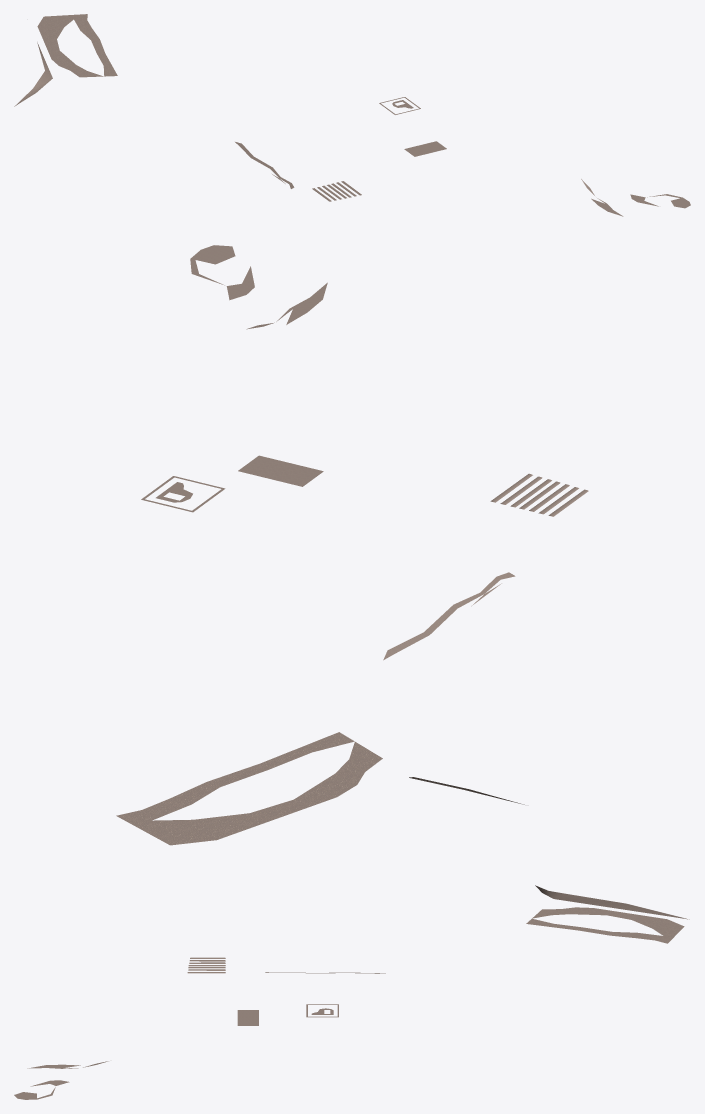
The model's file is kd_stage_1363c5_9_4_bounded.glb.
The picture shows the model from 3 angles, top to bottom: view 1: azimuth 30°, elevation 25°; view 2: azimuth 150°, elevation 25°; view 3: azimuth 270°, elevation 25°; orthographic projection. The views are drawn at different scales.
Visible parts, largest first — view 1: kd_stage_1363c5_9_4_bounded; view 2: kd_stage_1363c5_9_4_bounded; view 3: kd_stage_1363c5_9_4_bounded.
Boxes of the visible parts, x1,y1,x2,y2 form: kd_stage_1363c5_9_4_bounded: [14, 14, 690, 216]; kd_stage_1363c5_9_4_bounded: [116, 245, 588, 845]; kd_stage_1363c5_9_4_bounded: [14, 885, 689, 1099].
Size of the model in its own units: 106 by 8.05 by 148.
1 material, 1 textured.
